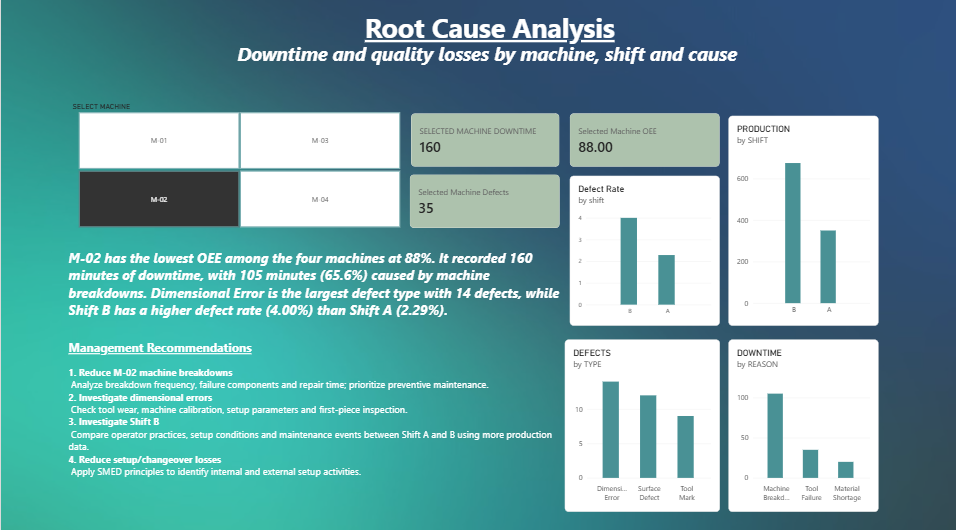

This screenshot's page, from the dashboard's own definition file:
{"tool":"powerbi","page":{"name":"Root Cause Analysis","canvas":[1920,1080],"ordinal":2},"visuals":[{"type":"clusteredColumnChart","fields":{"Category":["manufacturing_oee_project vw_downtime_analysis.downtime_reason"],"Y":["Sum(manufacturing_oee_project vw_downtime_analysis.duration_min)"]},"box":[1455,685,300,345],"z":0},{"type":"clusteredColumnChart","fields":{"Category":["manufacturing_oee_project vw_quality_analysis.defect_type"],"Y":["Sum(manufacturing_oee_project vw_quality_analysis.defect_qty)"]},"box":[1127.5,685,310,345],"z":1000},{"type":"clusteredColumnChart","fields":{"Category":["vw_oee_analysis.shift"],"Y":["Sum(vw_oee_analysis.actual_qty)"]},"box":[1455,237.5,300,420],"z":2000},{"type":"clusteredColumnChart","fields":{"Category":["vw_oee_analysis.shift"],"Y":["vw_oee_analysis.Defect Rate"]},"box":[1137.5,357.5,300,300],"z":3000},{"type":"slicer","fields":{"Values":["Machine.machine_id"]},"box":[135,210,682.5,252.5],"z":4000},{"type":"cardVisual","fields":{"Data":["Avg(vw_oee_analysis.OEE)"]},"box":[1137.5,232.5,300,107.5],"z":5000},{"type":"cardVisual","fields":{"Data":["Sum(manufacturing_oee_project vw_downtime_analysis.duration_min)"]},"box":[820,232.5,297.5,107.5],"z":6000},{"type":"cardVisual","fields":{"Data":["Sum(manufacturing_oee_project vw_quality_analysis.defect_qty)"]},"box":[817.5,355,300,107.5],"z":7000},{"type":"textbox","box":[135,502.5,982.5,155],"z":8000},{"type":"textbox","box":[727.5,25,507.5,85],"z":9000},{"type":"textbox","box":[472.5,87.5,1100,150],"z":10000},{"type":"textbox","box":[135,685,450,47.5],"z":11000},{"type":"textbox","box":[135,737.5,982.5,240],"z":12000}]}

Visuals, with their boxes in screenshot pixels (x1, y1, x2, y2), scaled from the page's 1920x1080 canvas onto the 956x530 screenshot:
clusteredColumnChart - manufacturing_oee_project vw_downtime_analysis.downtime_reason x Sum(manufacturing_oee_project vw_downtime_analysis.duration_min): [left=724, top=336, right=874, bottom=505]
clusteredColumnChart - manufacturing_oee_project vw_quality_analysis.defect_type x Sum(manufacturing_oee_project vw_quality_analysis.defect_qty): [left=561, top=336, right=716, bottom=505]
clusteredColumnChart - vw_oee_analysis.shift x Sum(vw_oee_analysis.actual_qty): [left=724, top=117, right=874, bottom=323]
clusteredColumnChart - vw_oee_analysis.shift x vw_oee_analysis.Defect Rate: [left=566, top=175, right=716, bottom=323]
slicer - Machine.machine_id: [left=67, top=103, right=407, bottom=227]
cardVisual - Avg(vw_oee_analysis.OEE): [left=566, top=114, right=716, bottom=167]
cardVisual - Sum(manufacturing_oee_project vw_downtime_analysis.duration_min): [left=408, top=114, right=556, bottom=167]
cardVisual - Sum(manufacturing_oee_project vw_quality_analysis.defect_qty): [left=407, top=174, right=556, bottom=227]
textbox: [left=67, top=247, right=556, bottom=323]
textbox: [left=362, top=12, right=615, bottom=54]
textbox: [left=235, top=43, right=783, bottom=117]
textbox: [left=67, top=336, right=291, bottom=359]
textbox: [left=67, top=362, right=556, bottom=480]
